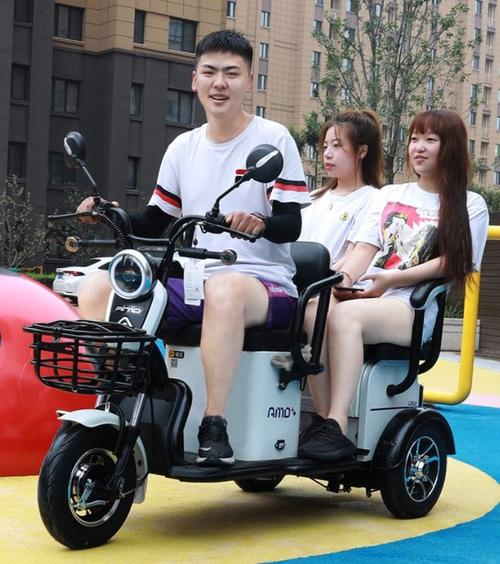driver: (108, 26, 312, 470)
overloading: (30, 35, 493, 553)
passenger: (351, 108, 478, 370), (297, 109, 400, 271)
